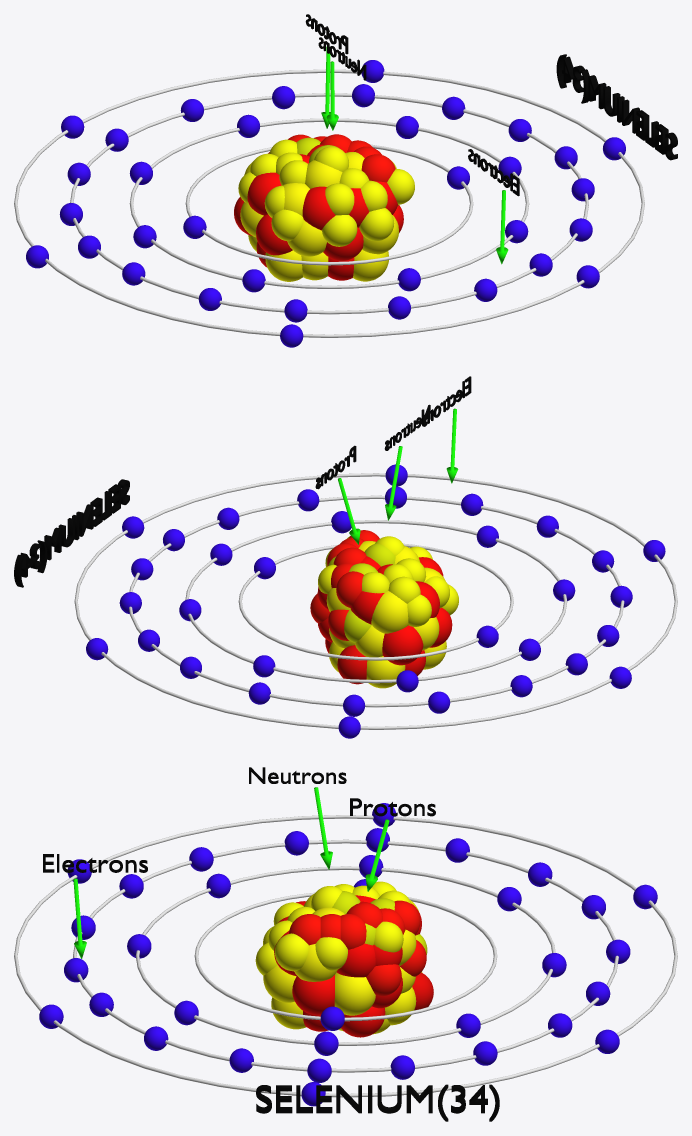
The model's file is Selenium Atomic Model.gltf.
3 views of the same model, one above another, from view 1: azimuth 30°, elevation 25°; view 2: azimuth 150°, elevation 25°; view 3: azimuth 270°, elevation 25° (orthographic). The views are drawn at different scales.
Visible parts, largest first — view 1: Sphere.038, Torus.003, Torus.002, Text.003, Torus.001, Torus, Sphere.014, Sphere.008, Sphere.016, Sphere.015, Sphere.006, Sphere.002 (+5 smaller); view 2: Sphere.038, Torus.003, Torus.002, Text.003, Torus.001, Torus, Sphere.018, Sphere.019, Sphere.020, Text; view 3: Sphere.038, Torus.003, Torus.002, Text.003, Torus.001, Torus, Sphere.002, Text, Sphere.009, Sphere.000, Sphere.007, Sphere.021 (+6 smaller).
Boxes of the visible parts, x1,y1,x2,y2 form: Sphere.038: [234, 137, 403, 281]; Torus.003: [14, 69, 644, 337]; Torus.002: [70, 93, 588, 314]; Text.003: [556, 54, 677, 160]; Torus.001: [129, 118, 529, 288]; Torus: [185, 144, 473, 265]; Sphere.014: [322, 215, 357, 246]; Sphere.008: [359, 208, 394, 240]; Sphere.016: [271, 209, 303, 241]; Sphere.015: [325, 183, 354, 215]; Sphere.006: [361, 154, 395, 182]; Sphere.002: [387, 169, 414, 204]; Sphere.038: [317, 541, 452, 688]; Torus.003: [74, 473, 677, 729]; Torus.002: [129, 495, 624, 707]; Text.003: [14, 479, 129, 587]; Torus.001: [185, 520, 567, 683]; Torus: [238, 543, 513, 660]; Sphere.018: [336, 571, 363, 607]; Sphere.019: [407, 594, 431, 626]; Sphere.020: [388, 576, 420, 603]; Text: [422, 376, 471, 426]; Sphere.038: [263, 891, 433, 1037]; Torus.003: [14, 815, 677, 1097]; Torus.002: [73, 839, 618, 1072]; Text.003: [256, 1084, 499, 1121]; Torus.001: [135, 866, 555, 1045]; Torus: [194, 892, 497, 1021]; Sphere.002: [274, 933, 308, 971]; Text: [43, 854, 147, 872]; Sphere.009: [366, 964, 401, 996]; Sphere.000: [315, 937, 347, 970]; Sphere.007: [340, 914, 366, 949]; Sphere.021: [374, 921, 403, 952].
Size of the model in its own units: 7.34 by 2.89 by 6.81.
